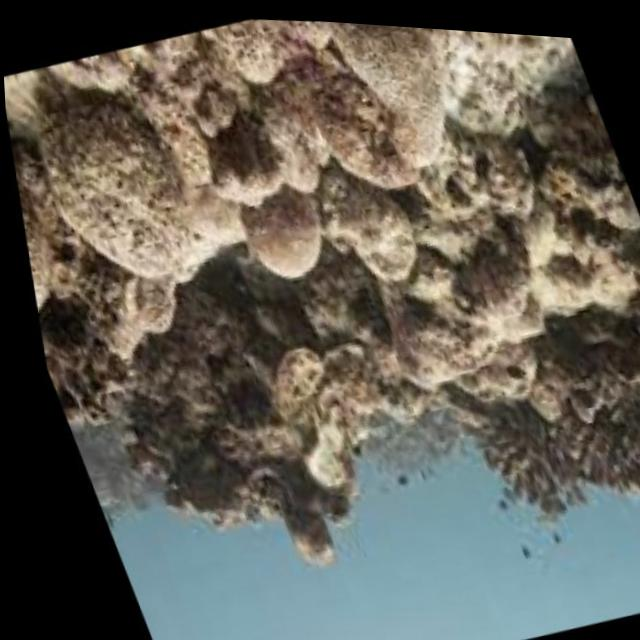Dead Coral: (0, 0, 574, 370), (76, 253, 414, 604), (395, 281, 640, 566)
